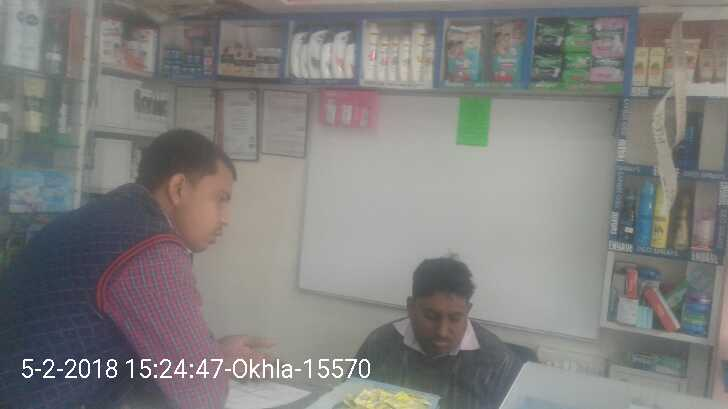vicks: (161, 43, 215, 81)
